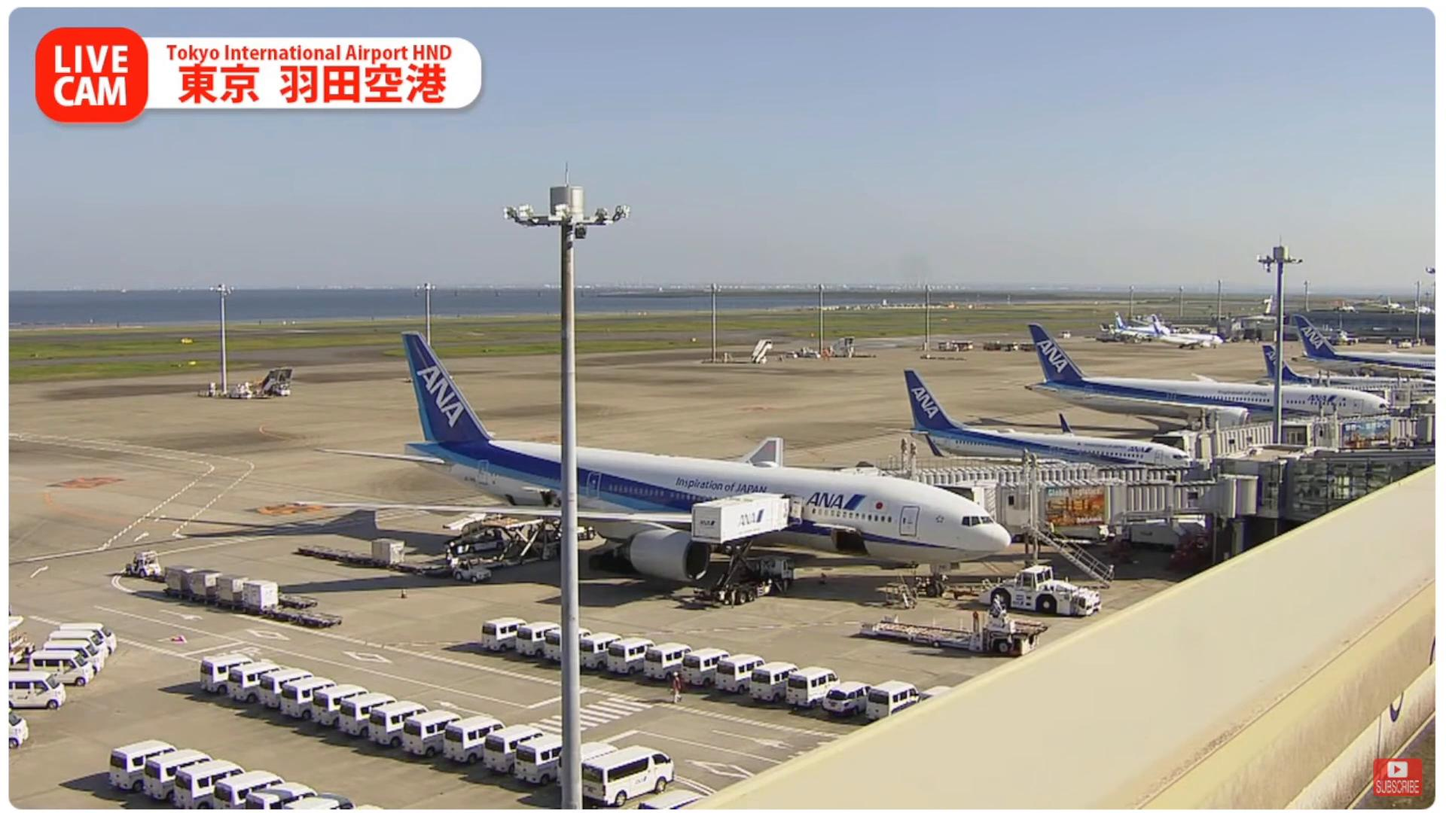APS: (982, 565, 1107, 615)
Aerobridge: (880, 463, 1198, 520), (990, 479, 1258, 539)
Airplane: (308, 328, 1018, 599)
Catering: (686, 489, 792, 606)
Dolly: (162, 563, 348, 636), (296, 538, 428, 574)
JCPL: (857, 598, 1049, 659), (480, 504, 562, 572)
Skyloader: (444, 505, 507, 558)
Tractor: (128, 549, 162, 590), (455, 554, 500, 582)
Window: (1281, 462, 1437, 524)
